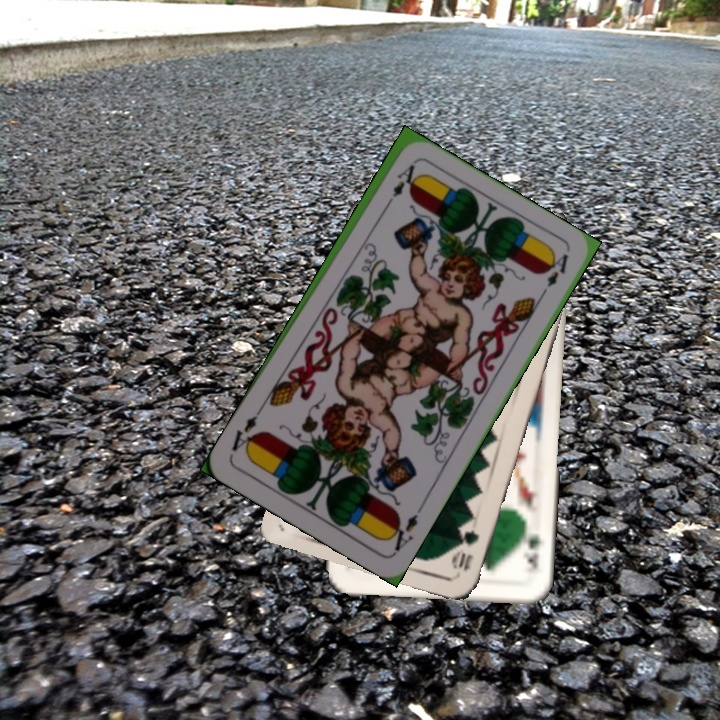EA: (383, 501, 426, 555), (380, 160, 417, 212)
G10: (448, 525, 482, 574)
GK: (519, 522, 544, 576)
